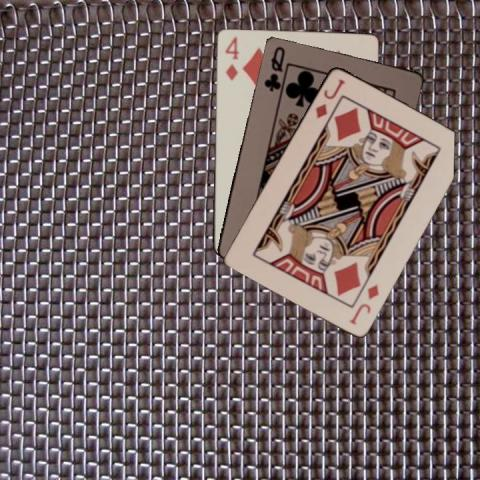4d: (222, 33, 240, 81)
Jd: (312, 75, 347, 120), (346, 281, 381, 326)
Qc: (260, 42, 286, 92)
